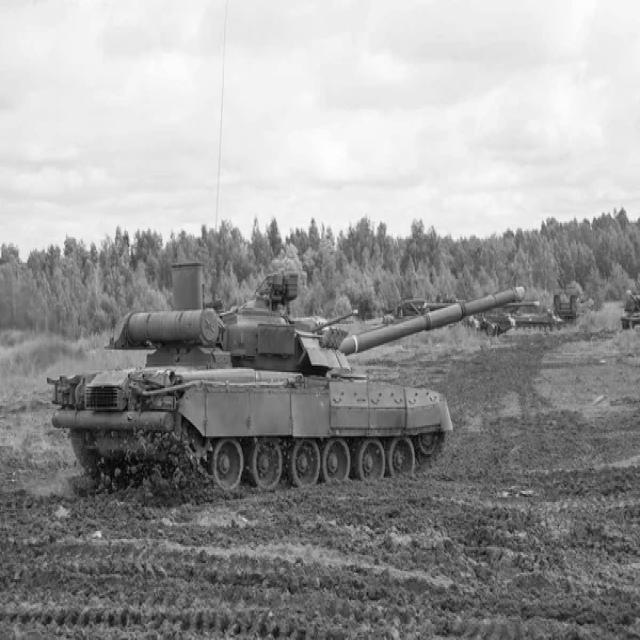Tank: (47, 258, 535, 497)
